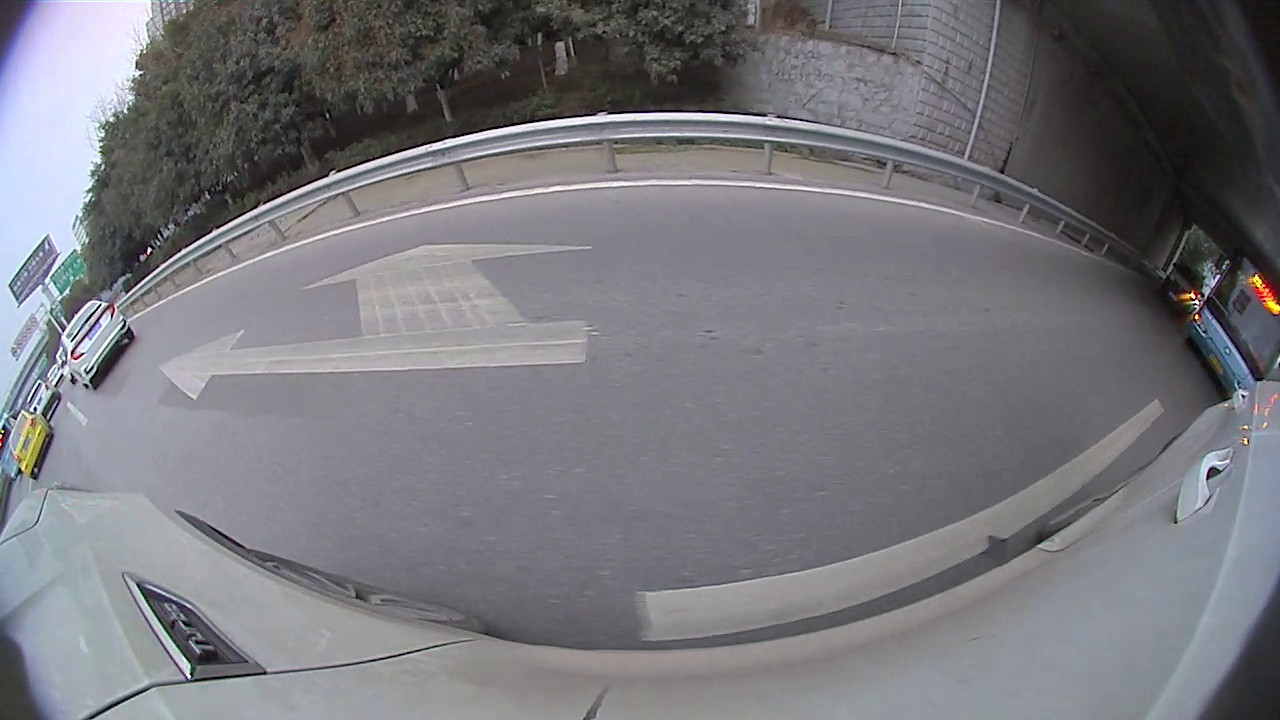bus: (1179, 246, 1279, 402)
car: (58, 297, 136, 394), (3, 404, 56, 482), (1155, 260, 1207, 317)
